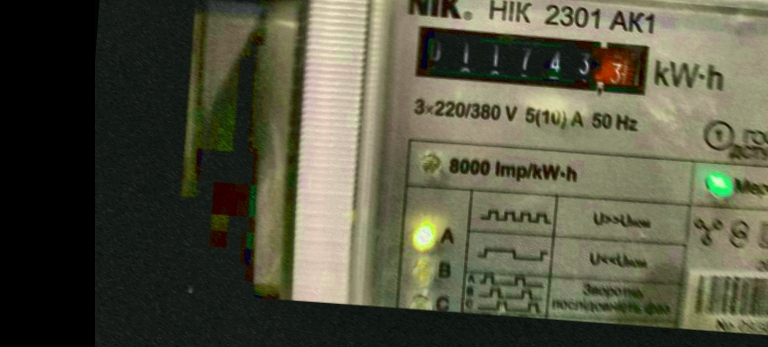0: (428, 35, 444, 63)
1: (489, 39, 503, 68), (460, 37, 472, 65)
3: (577, 48, 593, 76), (608, 60, 624, 86)
4: (547, 46, 563, 74)
7: (518, 41, 535, 70)
screen: (404, 14, 662, 106)
